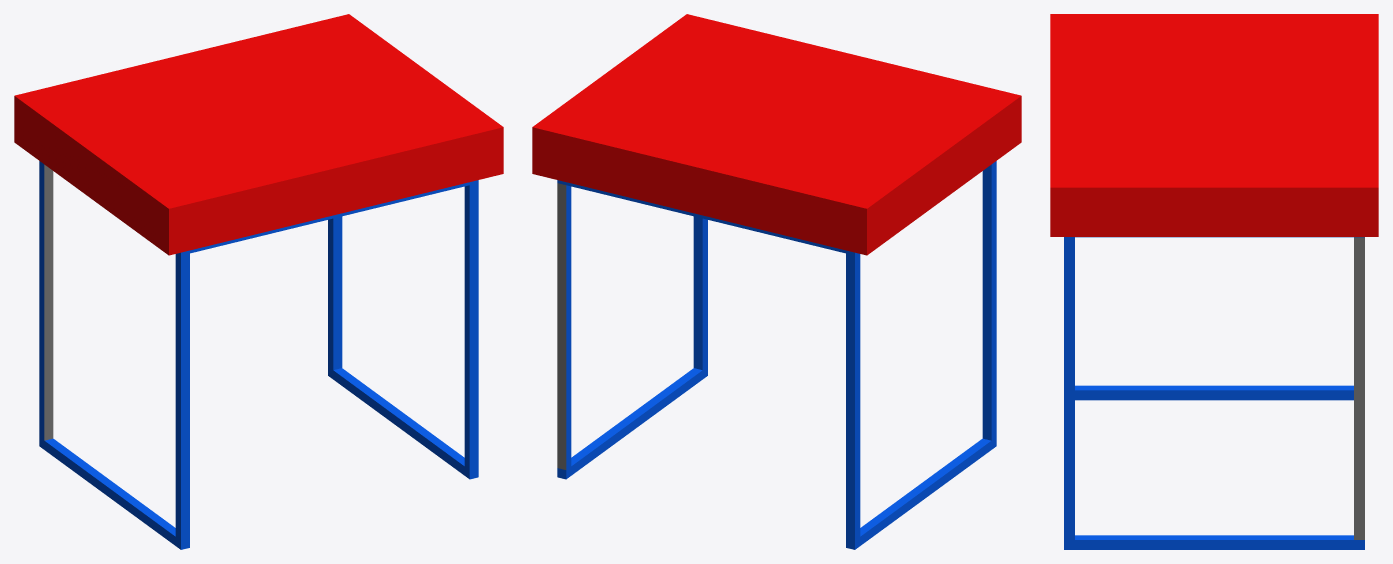
The model's file is hospital_fnt_escritorio1.fbx.
The picture shows the model from 3 angles, left to right: view 1: azimuth 30°, elevation 25°; view 2: azimuth 150°, elevation 25°; view 3: azimuth 270°, elevation 25°; orthographic projection. The views are drawn at different scales.
Parts seen in each view (by area): view 1: hospital_fnt_escritorio1; view 2: hospital_fnt_escritorio1; view 3: hospital_fnt_escritorio1.
Part boxes in pixels (<box>): hospital_fnt_escritorio1: <box>14,14,503,549</box>; hospital_fnt_escritorio1: <box>532,14,1021,549</box>; hospital_fnt_escritorio1: <box>1050,14,1378,549</box>.
Size of the model in its own units: 75 by 75 by 60.
